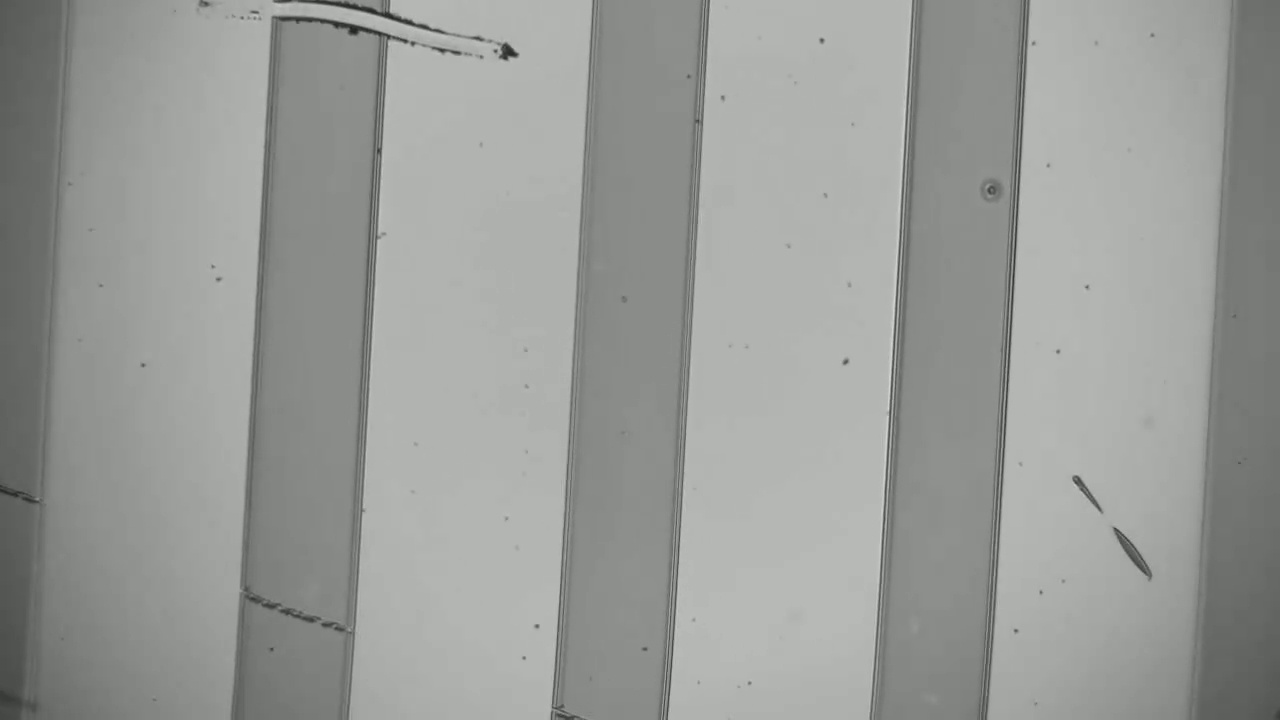Short_circuit: (247, 0, 419, 62)
scratch: (251, 592, 343, 639)
